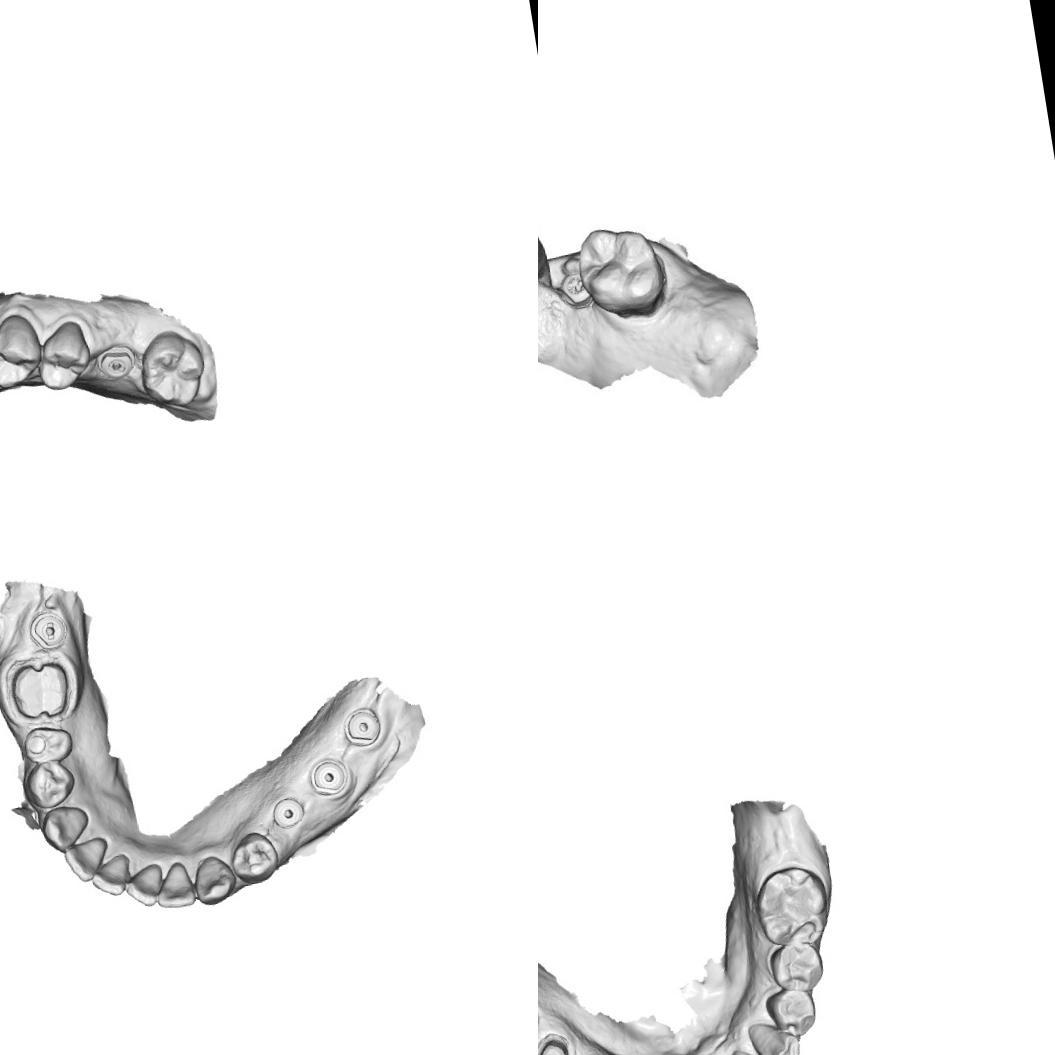canine: (38, 802, 94, 854), (190, 852, 240, 907), (747, 1016, 805, 1055)
crown: (3, 652, 77, 725), (538, 1030, 575, 1055)
implant: (306, 754, 350, 799), (340, 706, 382, 750), (269, 794, 306, 832), (558, 267, 594, 306)
implant_minus: (25, 606, 70, 654), (92, 341, 136, 383)
incisor: (61, 835, 114, 887), (150, 859, 198, 912), (87, 849, 135, 900), (122, 862, 168, 910), (729, 1043, 780, 1055)
molar: (573, 218, 672, 326), (750, 861, 835, 952), (132, 324, 214, 416)
premolar: (32, 315, 98, 395), (0, 309, 48, 395), (226, 826, 282, 888), (767, 939, 827, 996), (19, 756, 79, 812), (764, 985, 821, 1041), (20, 720, 75, 766)
